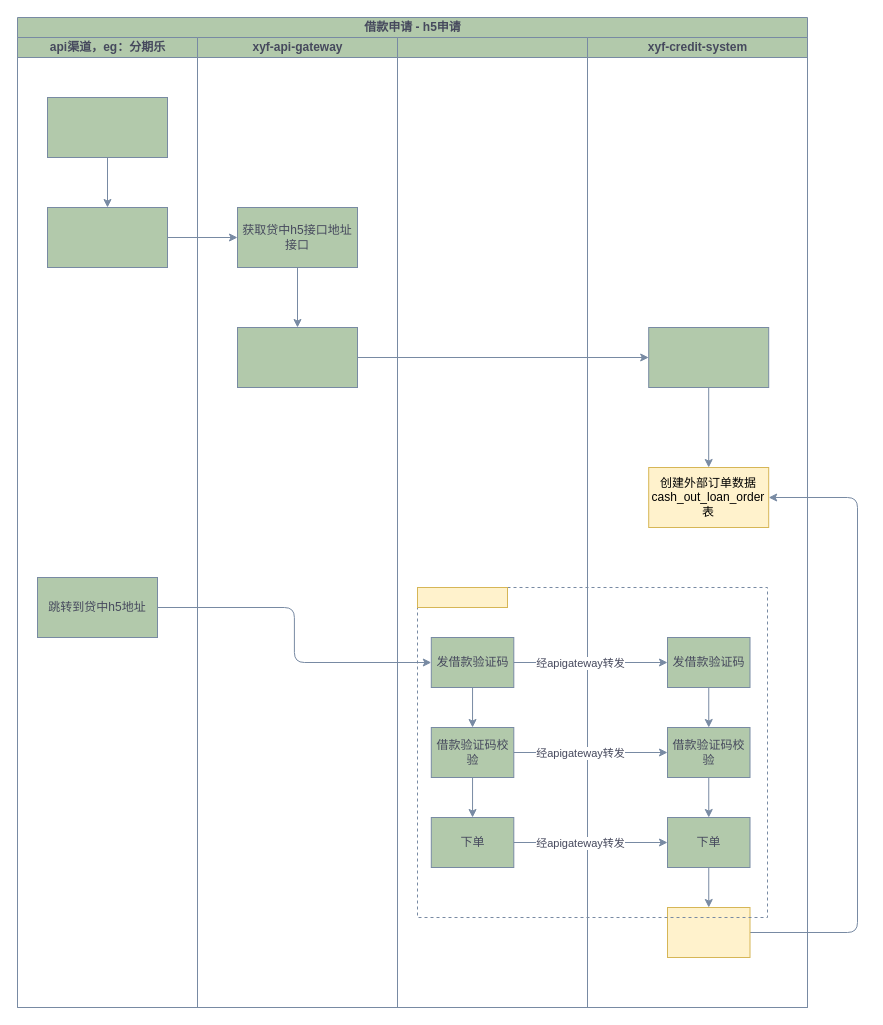
Image size: 883x1025. Some labels were removed from this diagram. Here are the shapes that lost their labels. From the top down, the centre of each, then its label:
At point (107, 127): "授信审核通过的用户".
At point (107, 237): "请求查询贷中h5地址".
At point (297, 357): "请求借款试算".
At point (708, 357): "借款试算接口".
At point (492, 522): "贷中前端h5".
At point (462, 597): "1.0版本流程".
At point (708, 932): "关联内部订单和外部订单".
